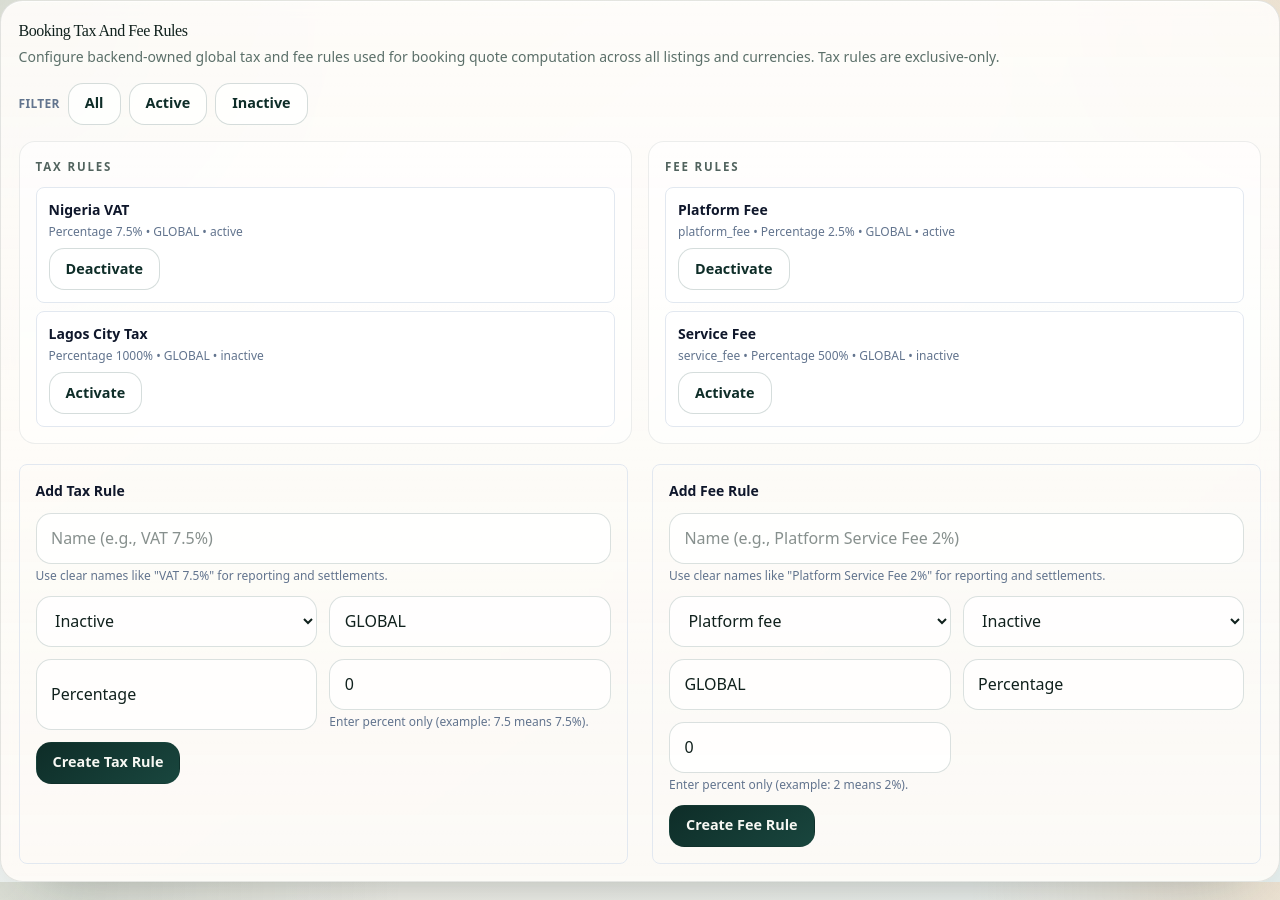
Scenario: BookingPricingRulesPanel › activates an inactive tax rule
The width and height of the screenshot is (1280, 900).
Expected: the text "Lagos City Tax" is shown, [49,324,148,343]
Click the button "Activate" below "Lagos City Tax" at [95, 393], box [49,372,142,414]
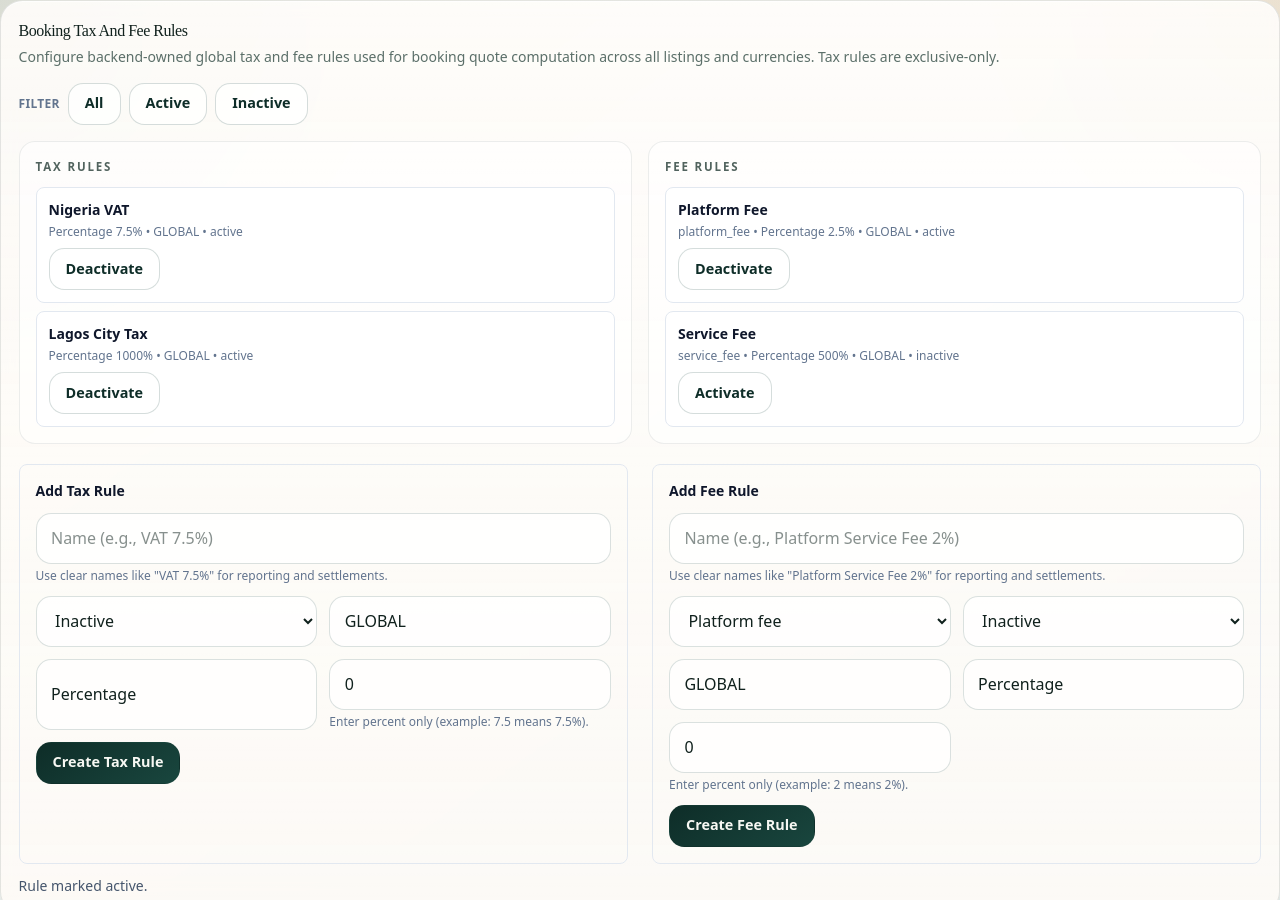
Expected: the text "Lagos City Tax" is shown, [49,324,148,343]
Result: the text "Rule marked active." is shown at [19,876,148,895]
